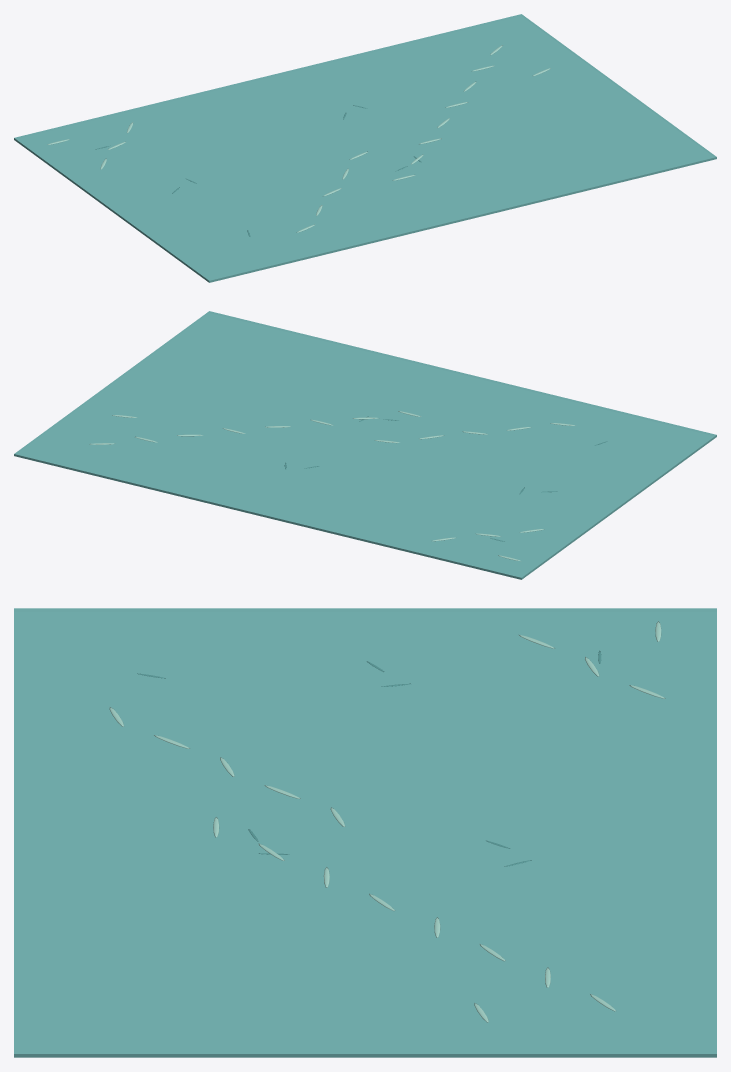
File: pond-water.glb
3 views of the same model, one above another, from view 1: azimuth 30°, elevation 25°; view 2: azimuth 150°, elevation 25°; view 3: azimuth 270°, elevation 25° (orthographic). The views are drawn at different scales.
Visible parts, largest first — view 1: pond-water_water, pond-water_waterLight; view 2: pond-water_water, pond-water_waterLight; view 3: pond-water_water, pond-water_waterLight.
Part boxes in pixels (left/top/right/bottom): pond-water_water: left=14, top=14, right=716, bottom=282; pond-water_waterLight: left=47, top=45, right=550, bottom=232; pond-water_water: left=14, top=311, right=716, bottom=579; pond-water_waterLight: left=89, top=411, right=575, bottom=561; pond-water_water: left=14, top=608, right=716, bottom=1057; pond-water_waterLight: left=109, top=621, right=665, bottom=1022.
Bounding box in the file's own units: 9 × 0.0559 × 6.
